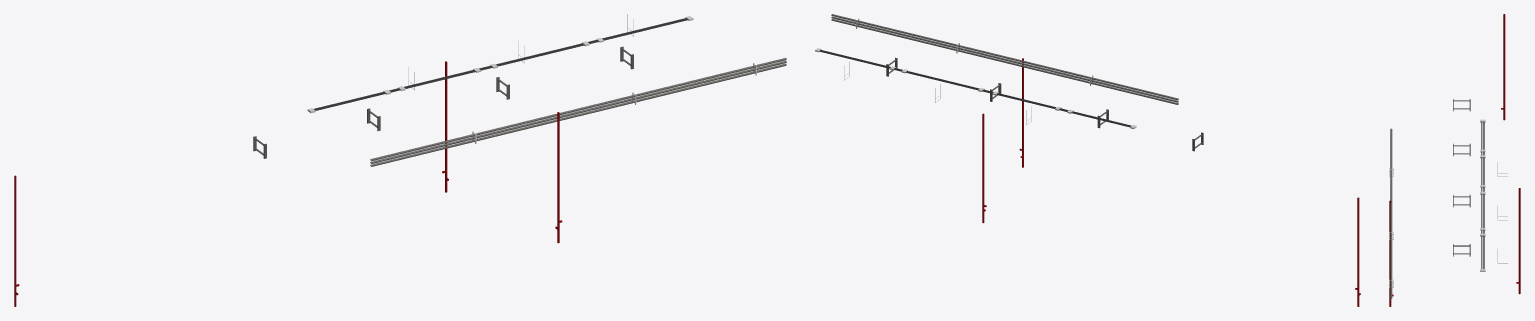
Rendered from SM_H_Building_Tide_Corridor_03H_ATLAS.fbx.
3 renders of one model, left to right at view 1: azimuth 30°, elevation 25°; view 2: azimuth 150°, elevation 25°; view 3: azimuth 270°, elevation 25°, orthographic. The views are drawn at different scales.
Parts seen in each view (by area): view 1: SM_H_Building_Tide_Corridor_03H_ATLAS; view 2: SM_H_Building_Tide_Corridor_03H_ATLAS; view 3: SM_H_Building_Tide_Corridor_03H_ATLAS.
Part boxes in pixels (left/top/right/bottom): SM_H_Building_Tide_Corridor_03H_ATLAS: left=14, top=14, right=786, bottom=306; SM_H_Building_Tide_Corridor_03H_ATLAS: left=815, top=14, right=1360, bottom=306; SM_H_Building_Tide_Corridor_03H_ATLAS: left=1389, top=14, right=1520, bottom=306.
Bounding box in the file's own units: 5772 × 1156 × 1106.
